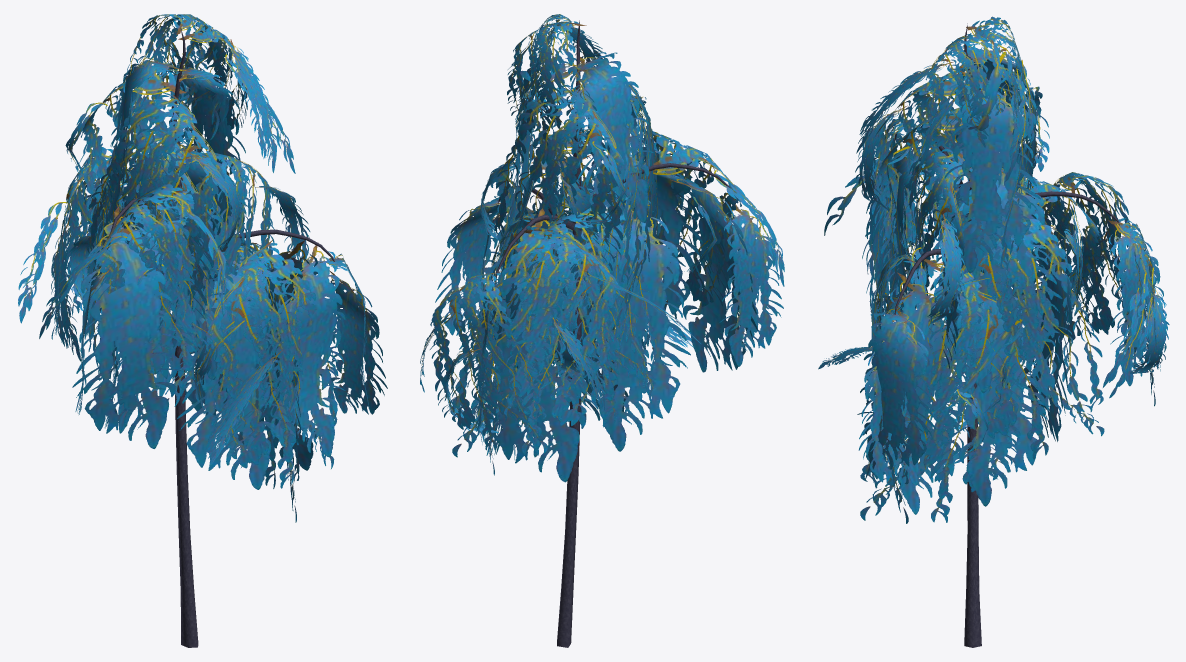
The picture shows the model from 3 angles, left to right: view 1: azimuth 30°, elevation 25°; view 2: azimuth 150°, elevation 25°; view 3: azimuth 270°, elevation 25°; orthographic projection.
Visible parts, largest first — view 1: SM_FH_Willow_Sapling_02_LOD0; view 2: SM_FH_Willow_Sapling_02_LOD0; view 3: SM_FH_Willow_Sapling_02_LOD0.
Part boxes in pixels (x1=…): SM_FH_Willow_Sapling_02_LOD0: x1=18, y1=14, x2=387, y2=647; SM_FH_Willow_Sapling_02_LOD0: x1=420, y1=14, x2=784, y2=647; SM_FH_Willow_Sapling_02_LOD0: x1=818, y1=16, x2=1169, y2=647.
Bounding box in the file's own units: 1.4 × 2.51 × 1.3.
Materials: 1 (1 with a texture image).
